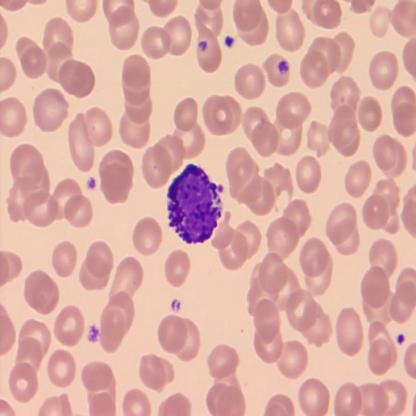Basophil: (165, 162, 224, 247)
